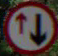Two way: (3, 5, 52, 47)
